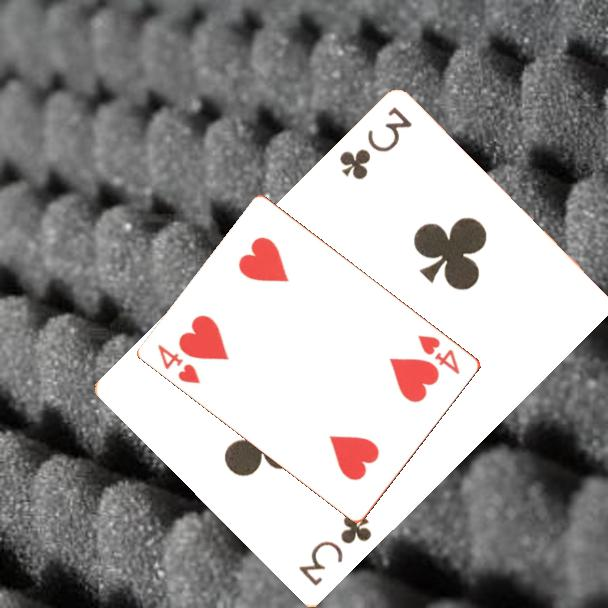c03: (294, 510, 375, 590), (336, 103, 415, 184)
h04: (155, 340, 204, 387), (414, 331, 463, 377)
